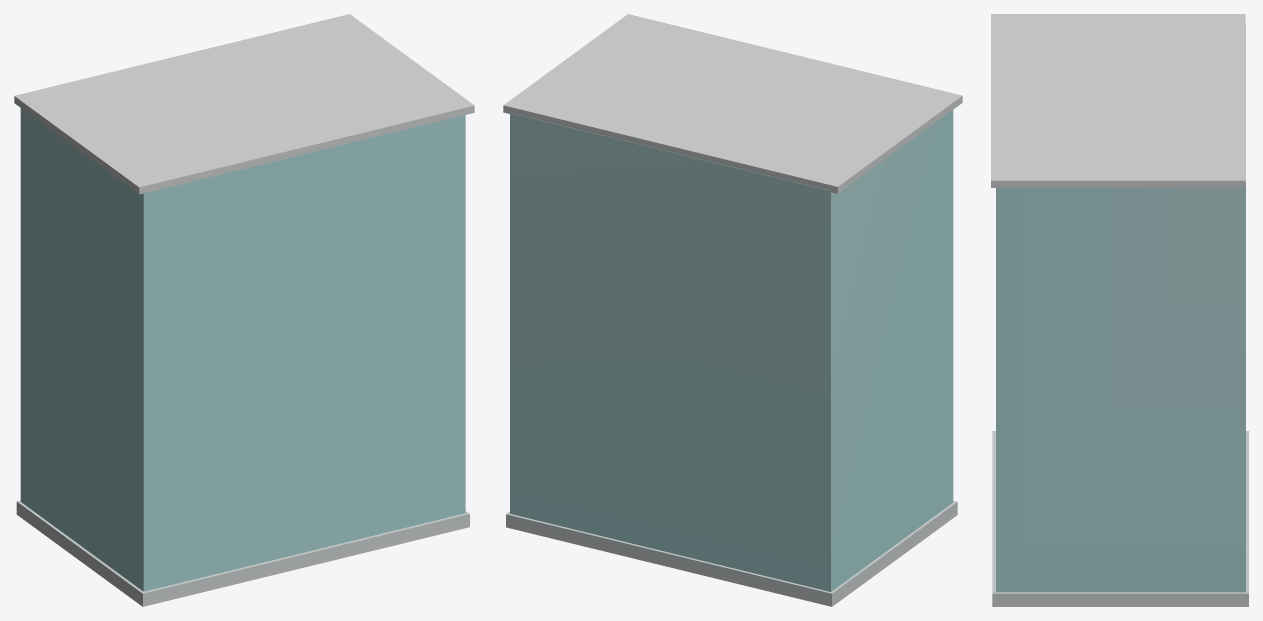
The picture shows the model from 3 angles, left to right: view 1: azimuth 30°, elevation 25°; view 2: azimuth 150°, elevation 25°; view 3: azimuth 270°, elevation 25°; orthographic projection. The views are drawn at different scales.
Parts seen in each view (by area): view 1: body, top_lip, bottom_lip; view 2: body, top_lip, bottom_lip; view 3: body, top_lip, bottom_lip.
Boxes of the visible parts, box(x1,y1,x2,y2) form: body: box(20, 108, 465, 591); top_lip: box(14, 14, 474, 194); bottom_lip: box(16, 500, 469, 606); body: box(510, 110, 953, 591); top_lip: box(503, 14, 962, 193); bottom_lip: box(506, 500, 957, 606); body: box(996, 23, 1245, 592); top_lip: box(991, 14, 1245, 187); bottom_lip: box(992, 431, 1248, 606).
Bounding box in the file's own units: 0.5837 × 0.7 × 0.3819.
